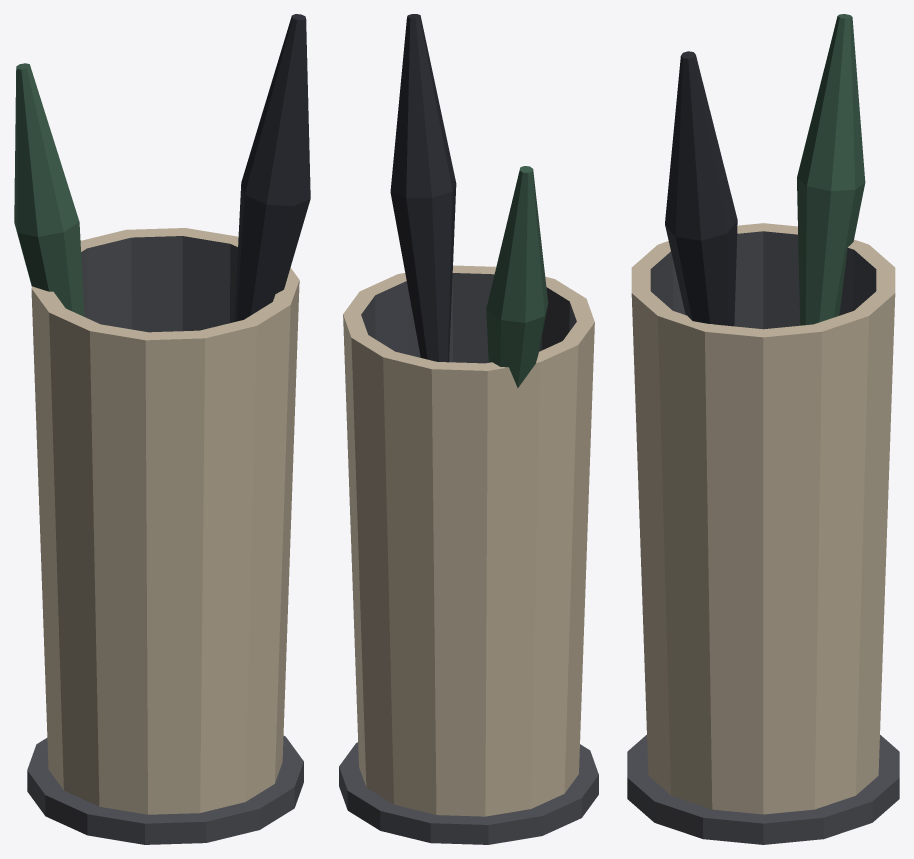
The model's file is FN_Stand_Umbrella.glb.
3 views of the same model, side by side, from view 1: azimuth 30°, elevation 25°; view 2: azimuth 150°, elevation 25°; view 3: azimuth 270°, elevation 25° (orthographic). The views are drawn at different scales.
Visible parts, largest first — view 1: FN_Stand_Umbrella; view 2: FN_Stand_Umbrella; view 3: FN_Stand_Umbrella.
Boxes of the visible parts, left/top/right/bottom form: FN_Stand_Umbrella: left=14, top=14, right=310, bottom=844; FN_Stand_Umbrella: left=339, top=14, right=598, bottom=844; FN_Stand_Umbrella: left=627, top=14, right=899, bottom=844.
Size of the model in its own units: 0.26 by 0.8009 by 0.2535.
1 material, 1 textured.
